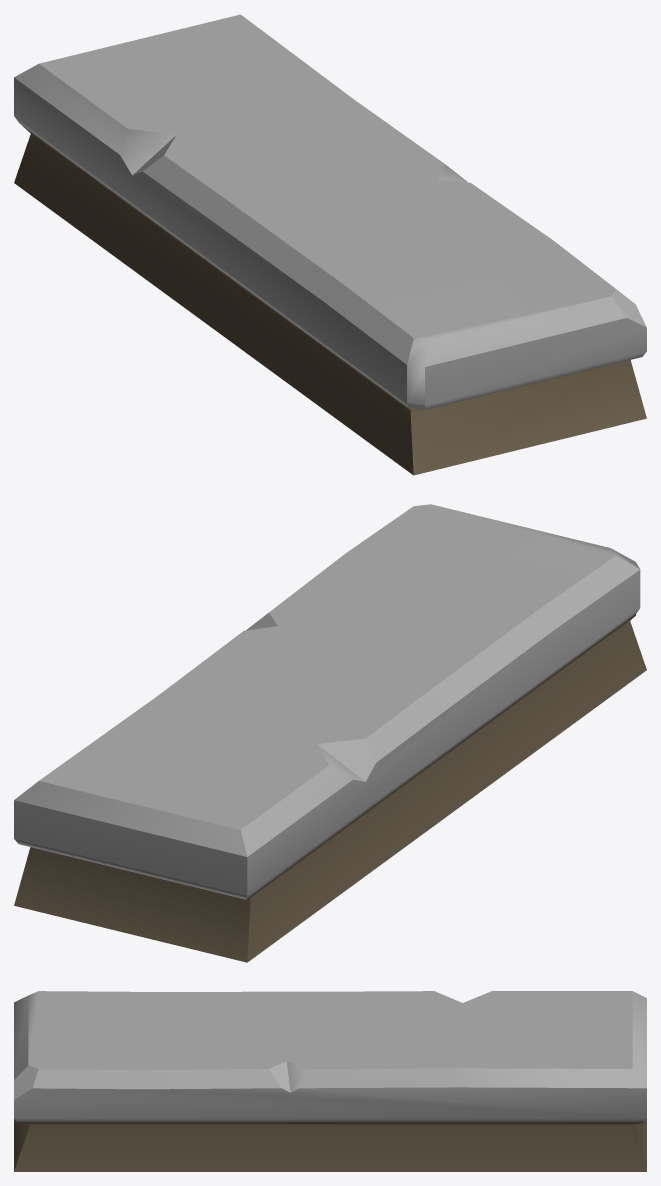
File: SM_StoneCounter02.fbx
The picture shows the model from 3 angles, top to bottom: view 1: azimuth 30°, elevation 25°; view 2: azimuth 150°, elevation 25°; view 3: azimuth 270°, elevation 25°; orthographic projection. The views are drawn at different scales.
Parts seen in each view (by area): view 1: polySurface12; view 2: polySurface12; view 3: polySurface12.
Boxes of the visible parts, x1,y1,x2,y2 form: polySurface12: [14, 14, 646, 475]; polySurface12: [14, 504, 646, 962]; polySurface12: [14, 991, 646, 1171].
Bounding box in the file's own units: 101 × 50 × 297.
